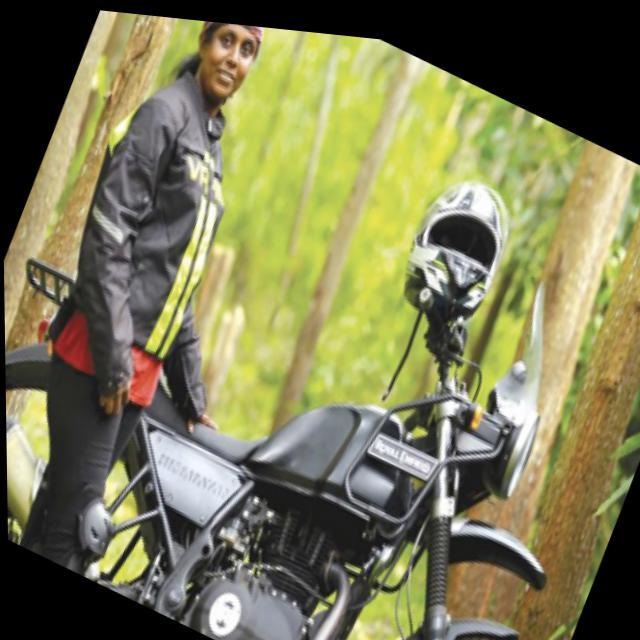Nonhelmet: (184, 18, 265, 112)
